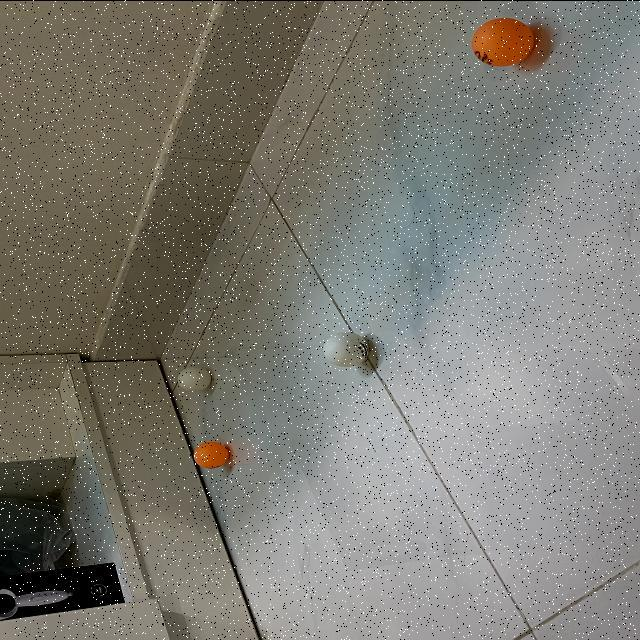ping-pong-ball: (471, 17, 535, 65), (322, 331, 371, 366), (193, 441, 231, 467), (178, 366, 212, 390)
